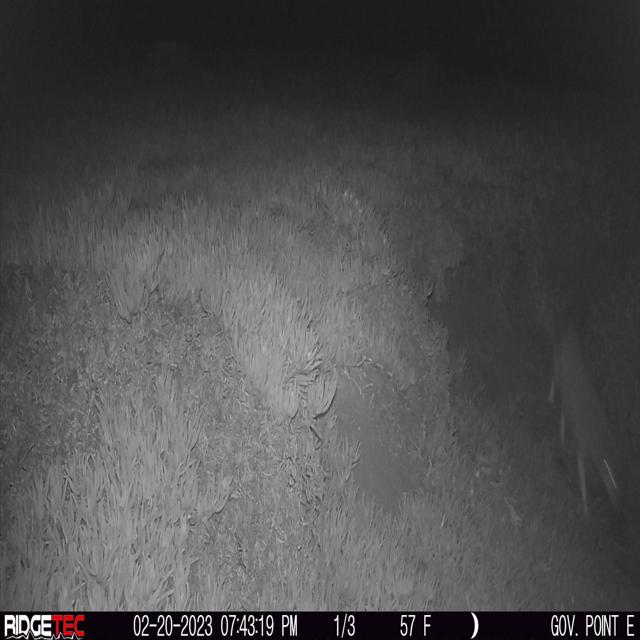coyote: (546, 309, 629, 521)
